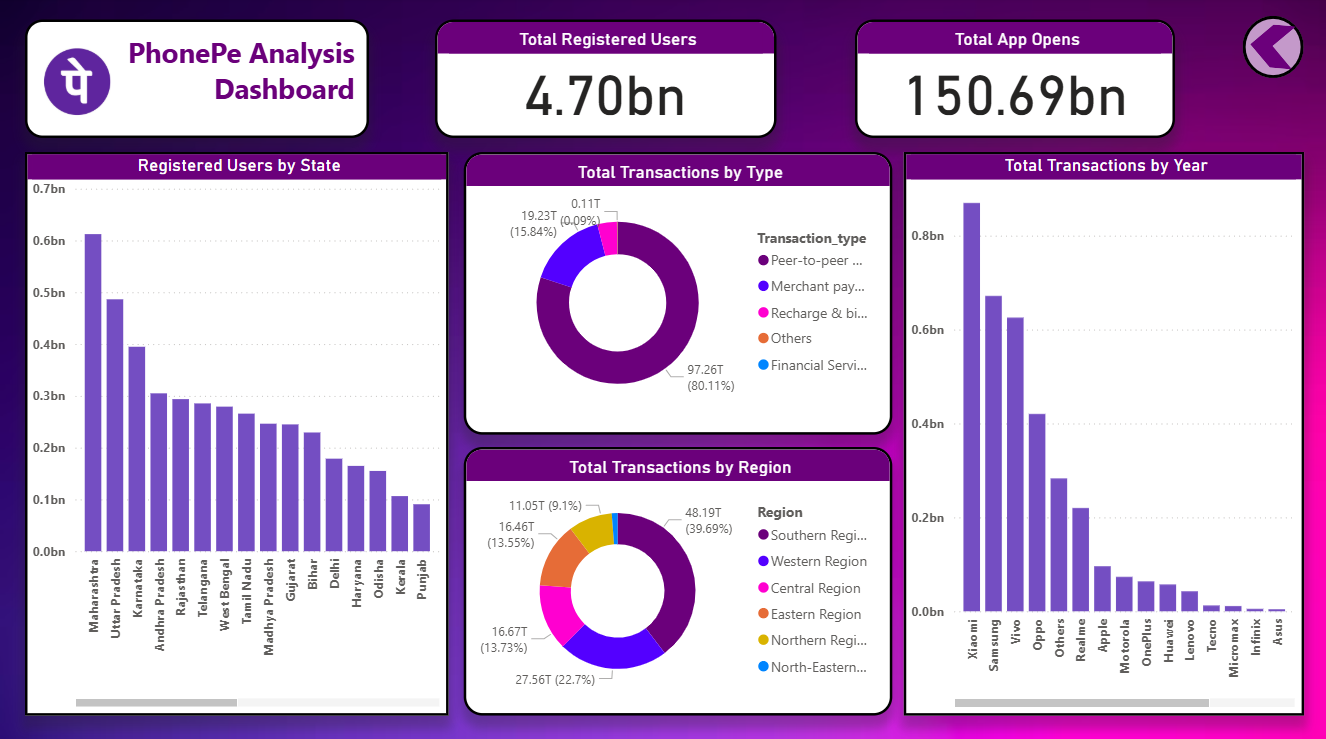

The page's visual inventory and layout, read from the dashboard file:
{"tool":"powerbi","page":{"name":"Page 2","canvas":[1280,720],"ordinal":1},"visuals":[{"type":"textbox","box":[24.1,21.7,331.8,114.6],"z":0},{"type":"card","title":"Total Registered Users","fields":{"Values":["Sum(map_user.Registered_users)"]},"box":[419.8,21.7,329.4,114.6],"z":1000},{"type":"card","title":"Total App Opens","fields":{"Values":["Sum(map_user.App_opens)"]},"box":[825.2,21.7,308.8,114.6],"z":2000},{"type":"clusteredColumnChart","title":"Registered Users by State","fields":{"Y":["Sum(map_user.Registered_users)"],"Category":["map_user.State"]},"box":[24.1,149.6,409,544.1],"z":3000},{"type":"clusteredColumnChart","title":"Total Transactions by Year","fields":{"Category":["agg_user.Brand"],"Y":["Sum(agg_user.Transaction_count)"]},"box":[872.3,149.6,386.1,544.1],"z":4000},{"type":"image","box":[24.1,26.5,101.3,109.8],"z":5000},{"type":"donutChart","title":"Total Transactions by Type","fields":{"Y":["Sum(agg_trans.Transaction_amount)"],"Category":["agg_trans.Transaction_type"]},"box":[447.6,149.6,413.8,272.7],"z":6000},{"type":"donutChart","title":"Total Transactions by Region","fields":{"Category":["agg_trans.Region"],"Y":["Sum(agg_trans.Transaction_amount)"]},"box":[447.6,434.3,413.8,259.4],"z":7000},{"type":"shape","box":[1199.2,18.1,59.1,60.3],"z":8000},{"type":"shape","box":[1206.4,26.5,44.6,43.4],"z":9000}]}

Visuals, with their boxes in screenshot pixels (x1, y1, x2, y2), scaled from the page's 1280x720 canvas onto the 1326x739 screenshot:
textbox: [left=25, top=22, right=369, bottom=140]
"Total Registered Users" card: [left=435, top=22, right=776, bottom=140]
"Total App Opens" card: [left=855, top=22, right=1175, bottom=140]
"Registered Users by State" clusteredColumnChart: [left=25, top=154, right=449, bottom=712]
"Total Transactions by Year" clusteredColumnChart: [left=904, top=154, right=1304, bottom=712]
image: [left=25, top=27, right=130, bottom=140]
"Total Transactions by Type" donutChart: [left=464, top=154, right=892, bottom=433]
"Total Transactions by Region" donutChart: [left=464, top=446, right=892, bottom=712]
shape: [left=1242, top=19, right=1304, bottom=80]
shape: [left=1250, top=27, right=1296, bottom=72]
